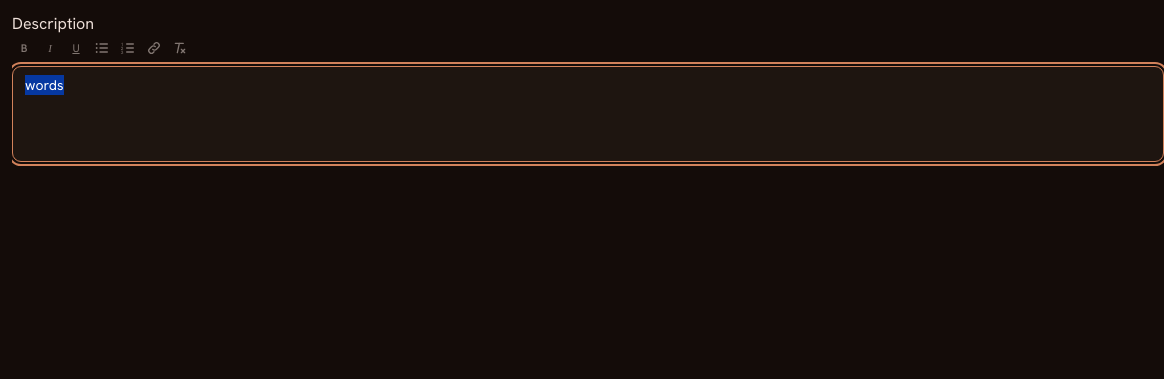
Test case: DescriptionEditor's link panel › an_address_that_isnt_one_is_refused_in_the_panel
The width and height of the screenshot is (1164, 379).
Click the button named "Link" at (154, 48), box [142, 36, 166, 60]
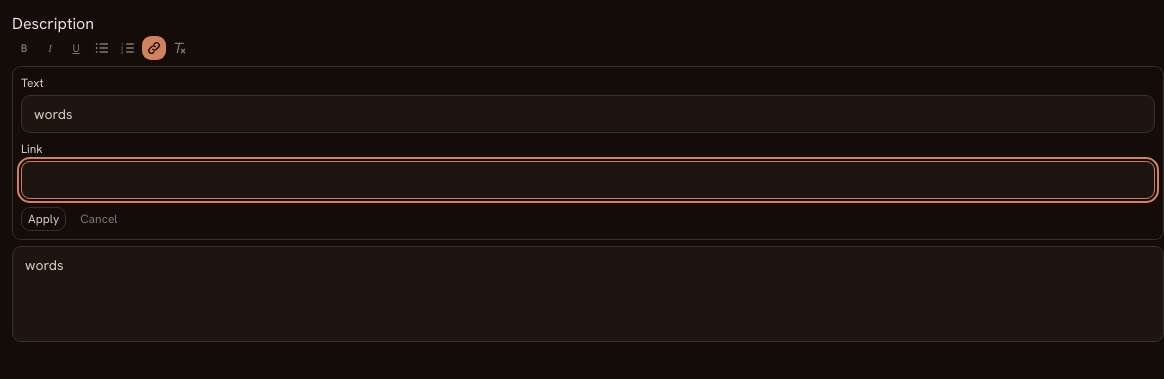
Type "javascript:alert(1)" into the field labelled "Link" at (588, 180), box [21, 161, 1155, 199]
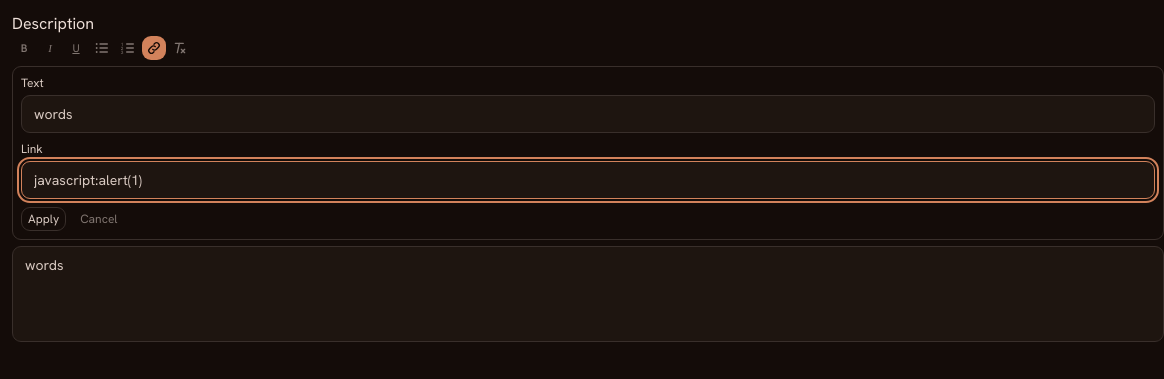
Click the button "Apply" at (44, 219), box [21, 207, 66, 231]
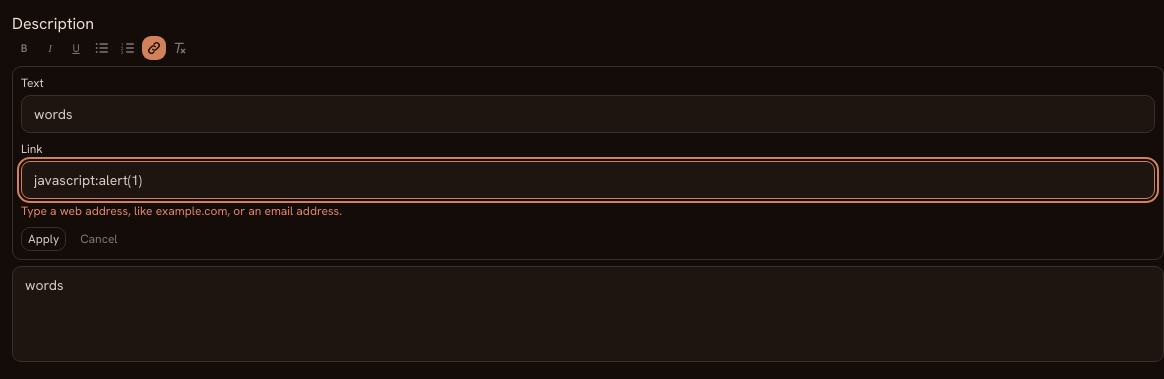
Now the message reads "Type a web address, like example.com, or an email address.", box [21, 203, 342, 219]
